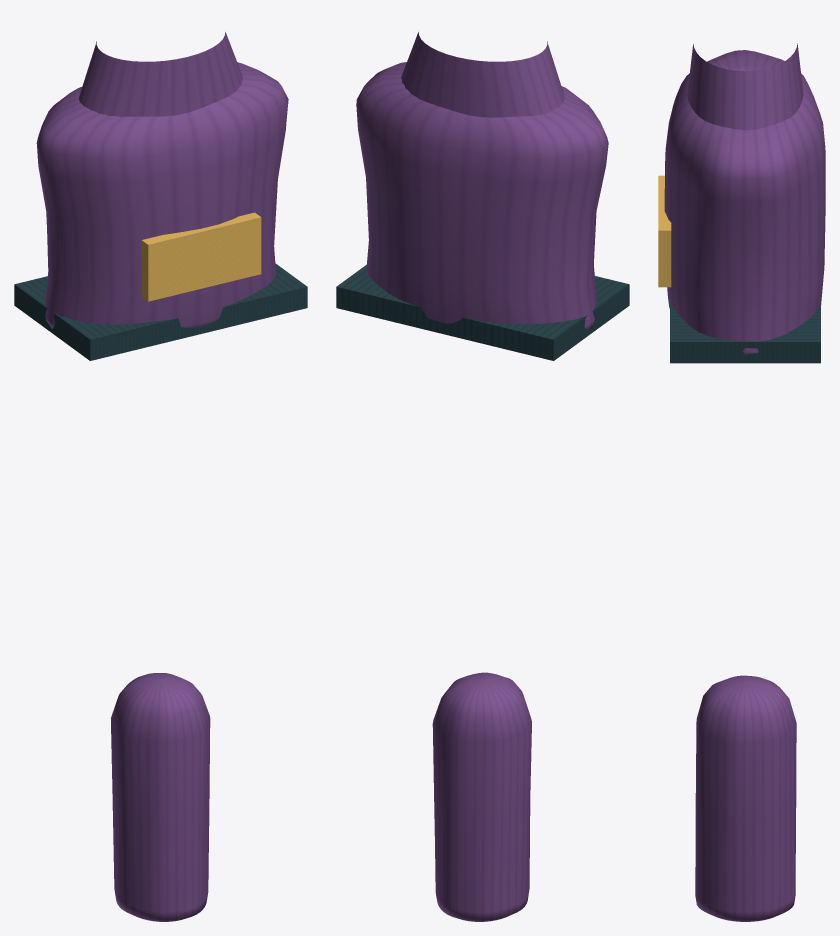
Rendered from layered_hoodie.gltf.
3 renders of one model, left to right at view 1: azimuth 30°, elevation 25°; view 2: azimuth 150°, elevation 25°; view 3: azimuth 270°, elevation 25°, orthographic.
Parts seen in each view (by area): view 1: Torso, SleeveL; view 2: Torso, SleeveL; view 3: Torso, SleeveL.
Part boxes in pixels (x1,y1,x2,y2): Torso: [14, 32, 307, 360]; SleeveL: [110, 673, 210, 921]; Torso: [336, 32, 629, 360]; SleeveL: [432, 672, 531, 921]; Torso: [658, 43, 825, 363]; SleeveL: [695, 675, 796, 921].
Bounding box in the file's own units: 0.5276 × 1.83 × 0.3218.
Materials: 3 (3 with a texture image).
